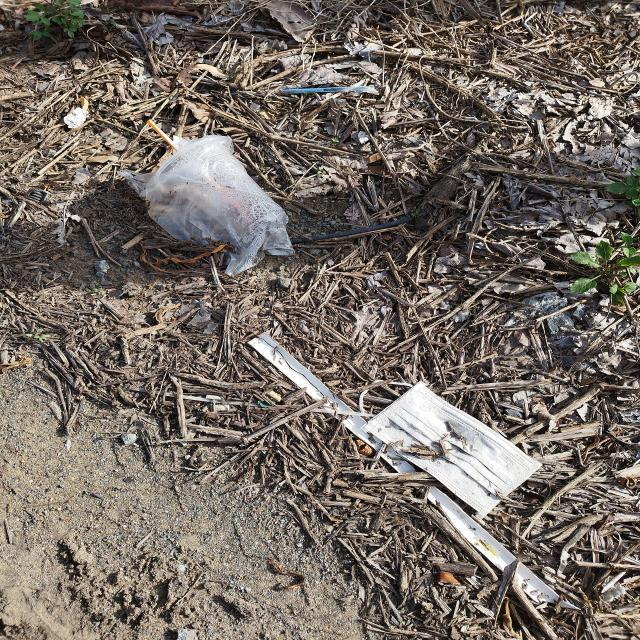drinking straw: (146, 119, 180, 153)
mask: (358, 380, 542, 519)
trash bag: (118, 135, 296, 275)
